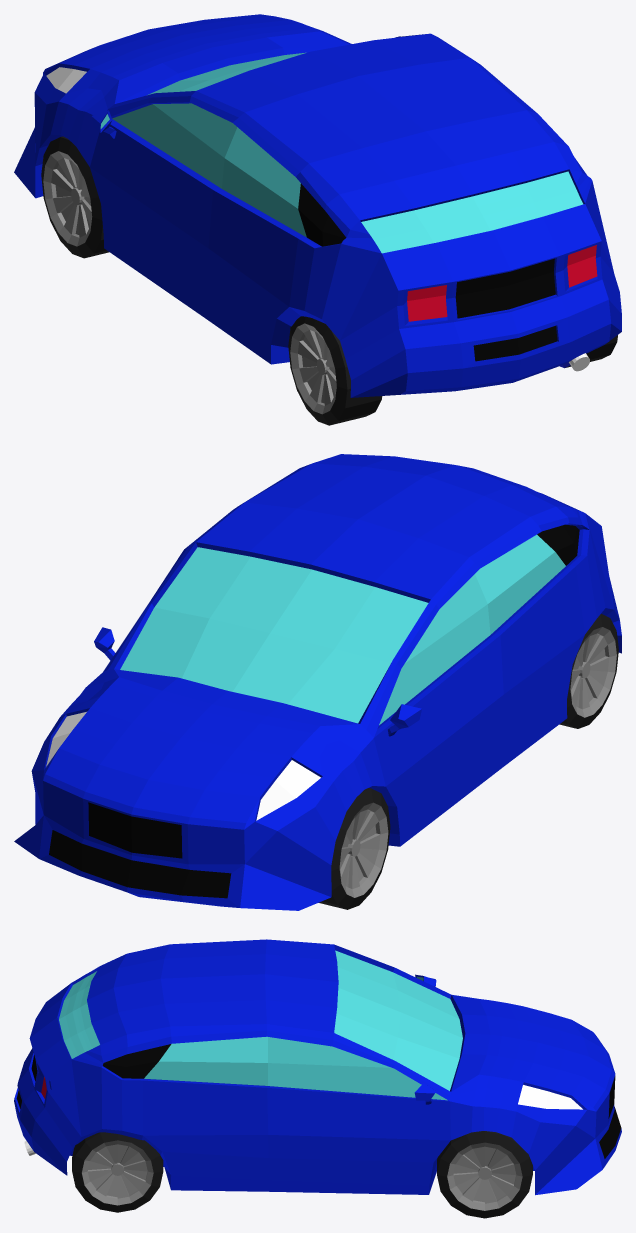
File: focusnew.fbx
The picture shows the model from 3 angles, top to bottom: view 1: azimuth 30°, elevation 25°; view 2: azimuth 150°, elevation 25°; view 3: azimuth 270°, elevation 25°; orthographic projection. The views are drawn at different scales.
Visible parts, largest first — view 1: Cube.012, Cube.002, Cube.003; view 2: Cube.012, Cube.003, Cube.002; view 3: Cube.012, Cube.004, Cube.005.
Part boxes in pixels (x1,y1,x2,y2): Cube.012: (14, 14, 621, 397); Cube.002: (288, 316, 382, 425); Cube.003: (41, 136, 109, 258); Cube.012: (14, 454, 621, 910); Cube.003: (318, 788, 390, 909); Cube.002: (559, 614, 618, 728); Cube.012: (14, 939, 621, 1195); Cube.004: (437, 1131, 532, 1218); Cube.005: (72, 1132, 163, 1212).
Size of the model in its own units: 195 by 416 by 144.
